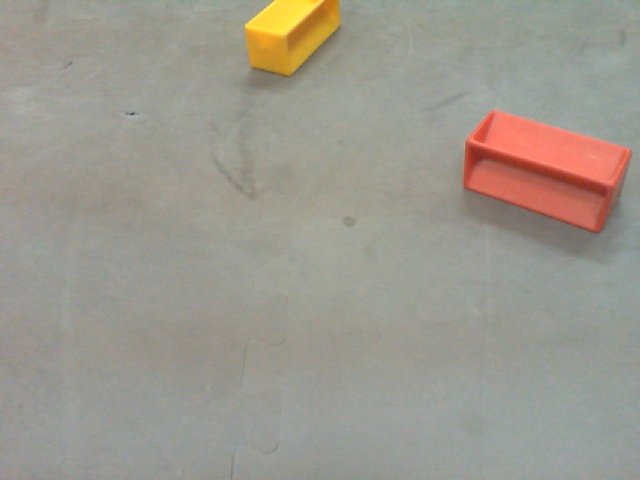RedSample: (461, 108, 635, 237)
YellowSample: (244, 1, 333, 75)
